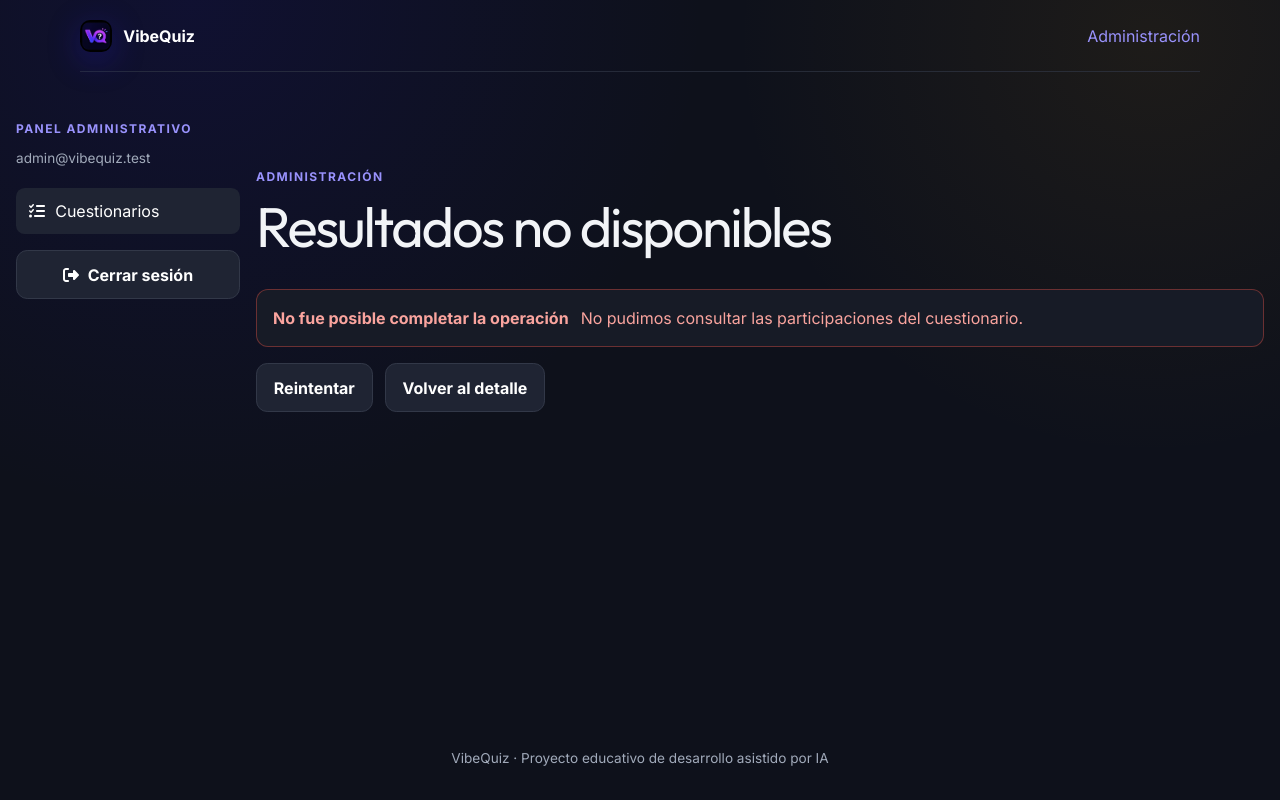
Test: administrative results and ranking › supports empty results and recoverable errors
Click the button "Reintentar": (314, 388) [256,363,373,412]
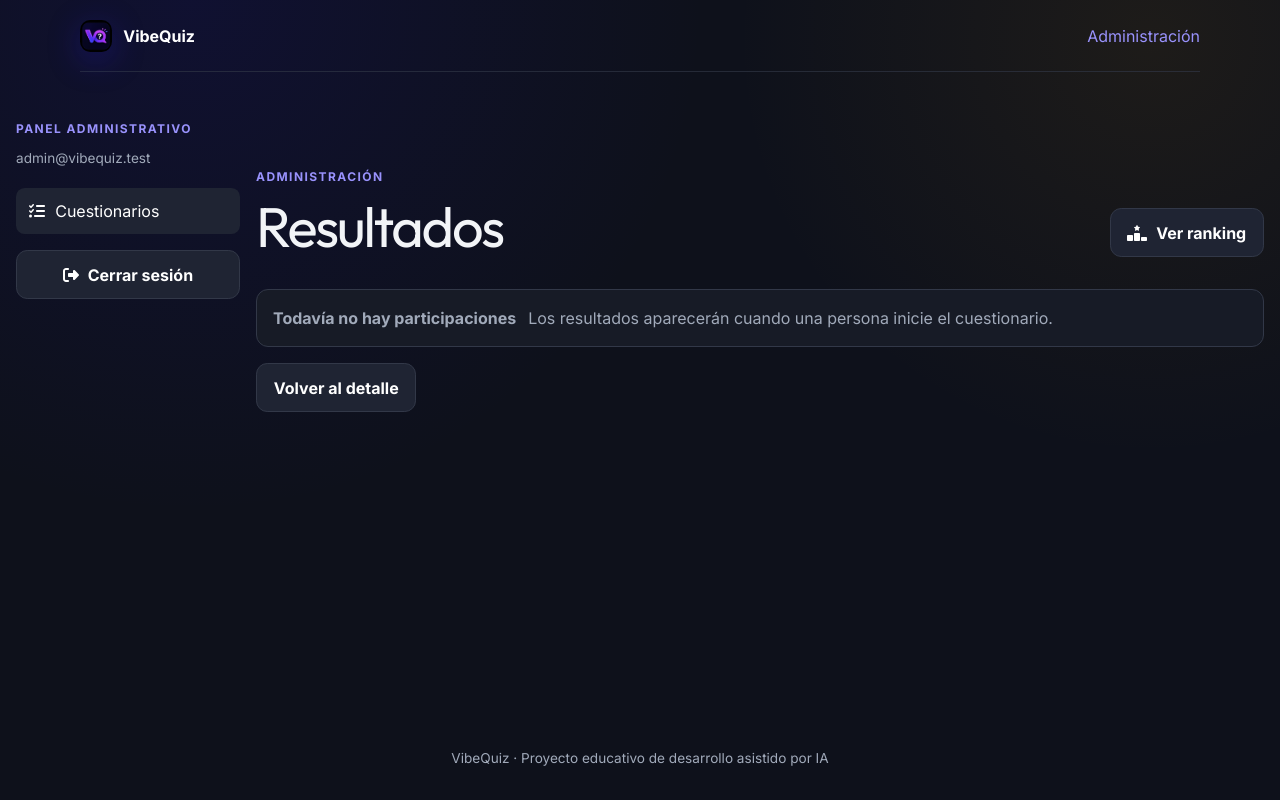
Now the text "Todavía no hay participaciones" is shown, box [273,306,516,330]
